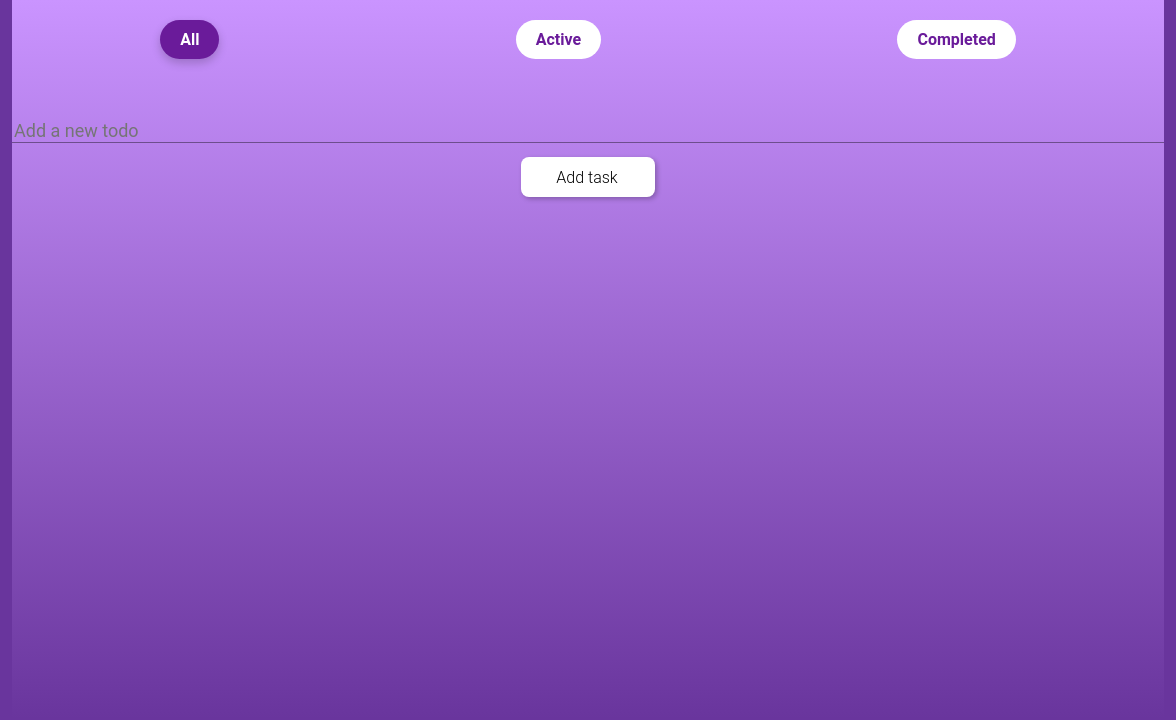
Todos › filters todos correctly
The width and height of the screenshot is (1176, 720).
Type "Task 1" into the field with placeholder "Add a new todo". click: (588, 131)
box: [12,119,1164,143]
Click the button "Add task". click: click(588, 177)
box: [521,157,655,197]
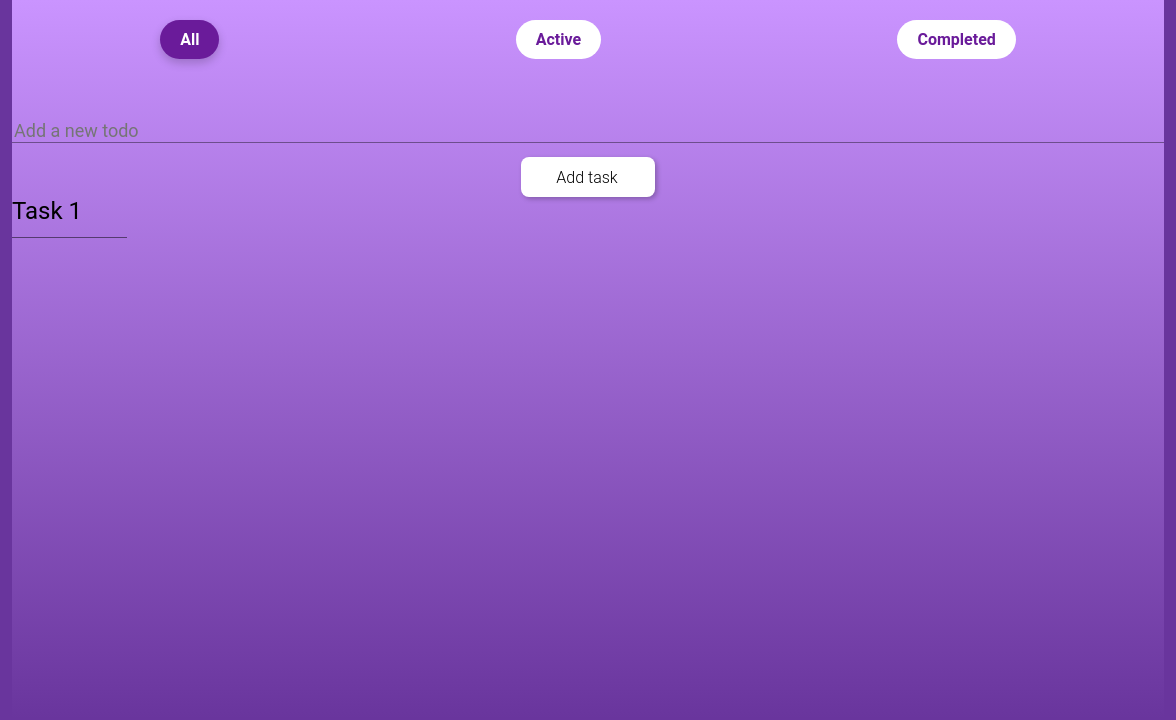
Type "Task 2" into the field with placeholder "Add a new todo". click: (588, 131)
box: [12,119,1164,143]
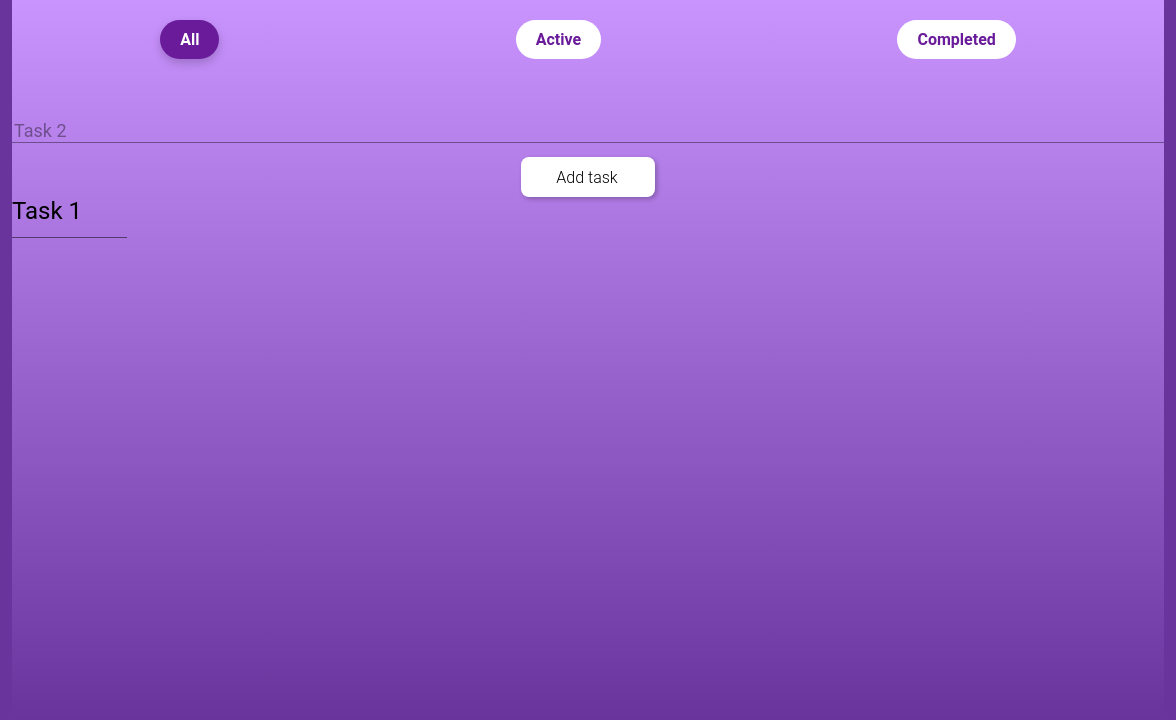
Click the button "Add task". click: click(588, 177)
box: [521,157,655,197]
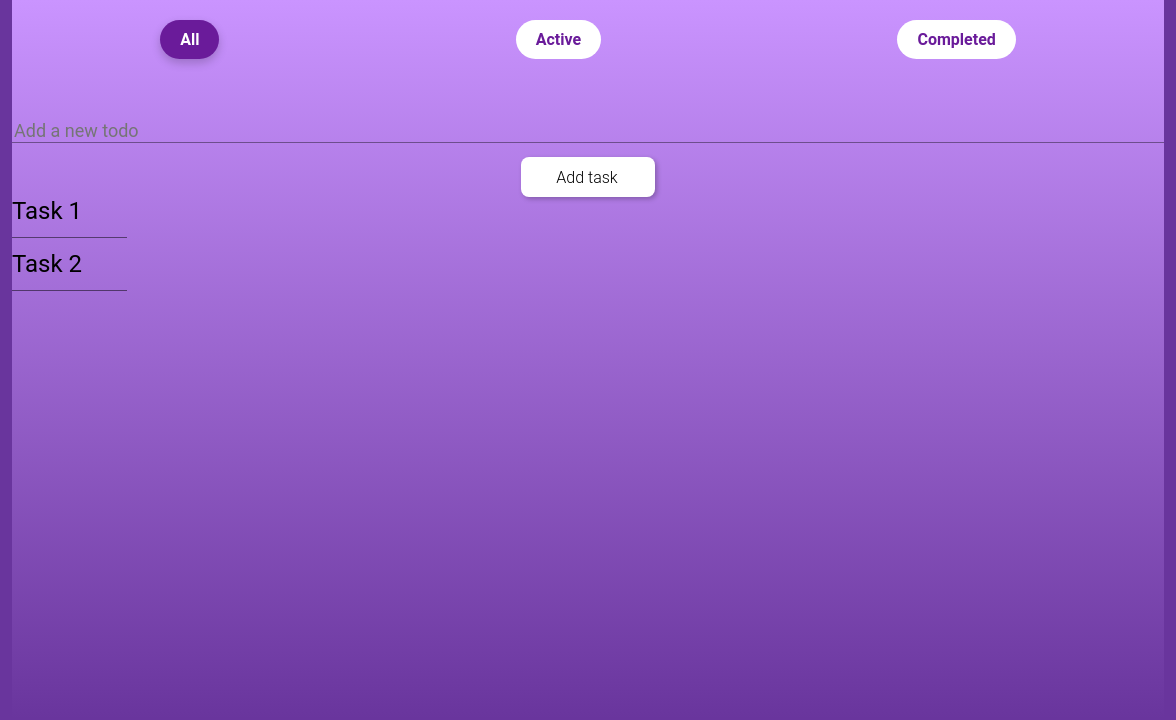
Click the text "Task 1". click: click(47, 211)
box: [12,197,82,225]
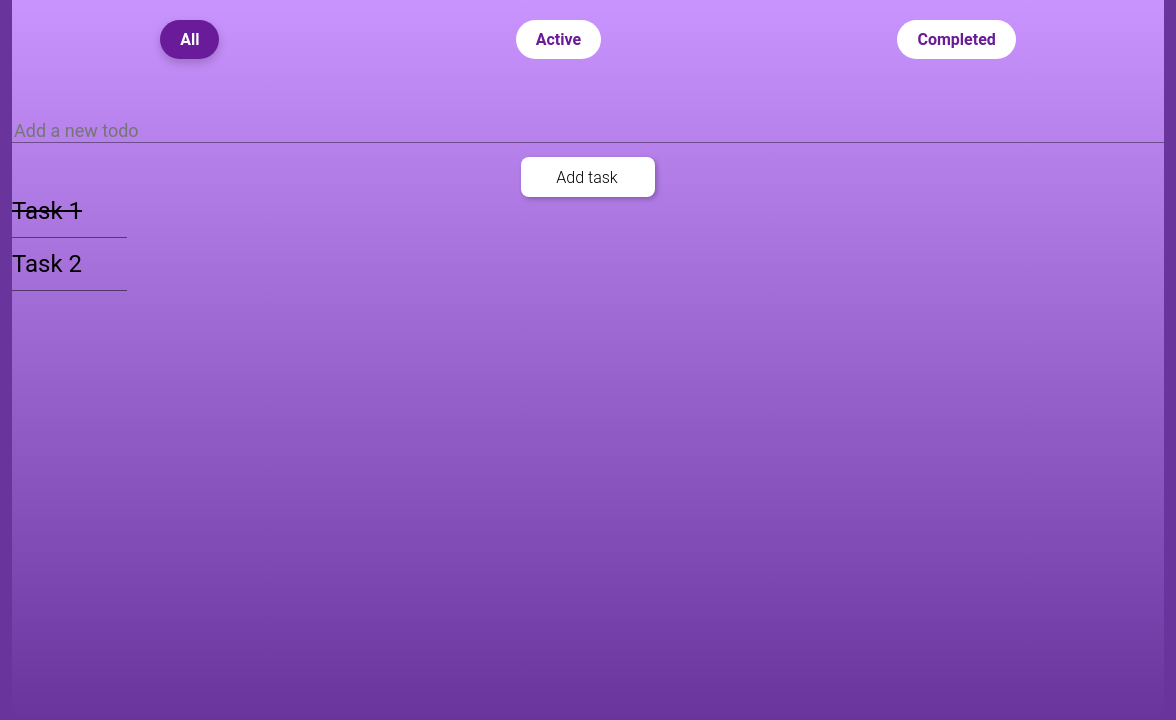
Click the button "Active". click: click(558, 40)
box: [516,20,601,59]
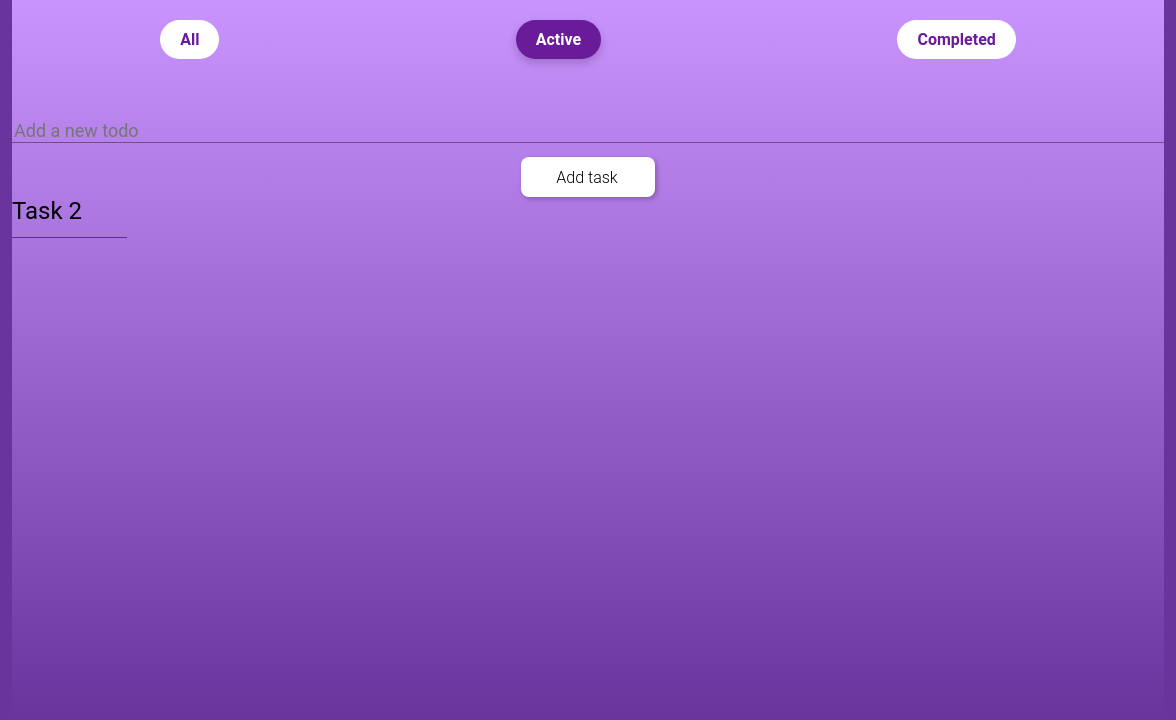
Check: the text "Task 2" is shown, box [12,197,82,225]
Check: the text "Task 1" is gone
Click the button "Completed". click: click(957, 40)
box: [898,20,1016,59]
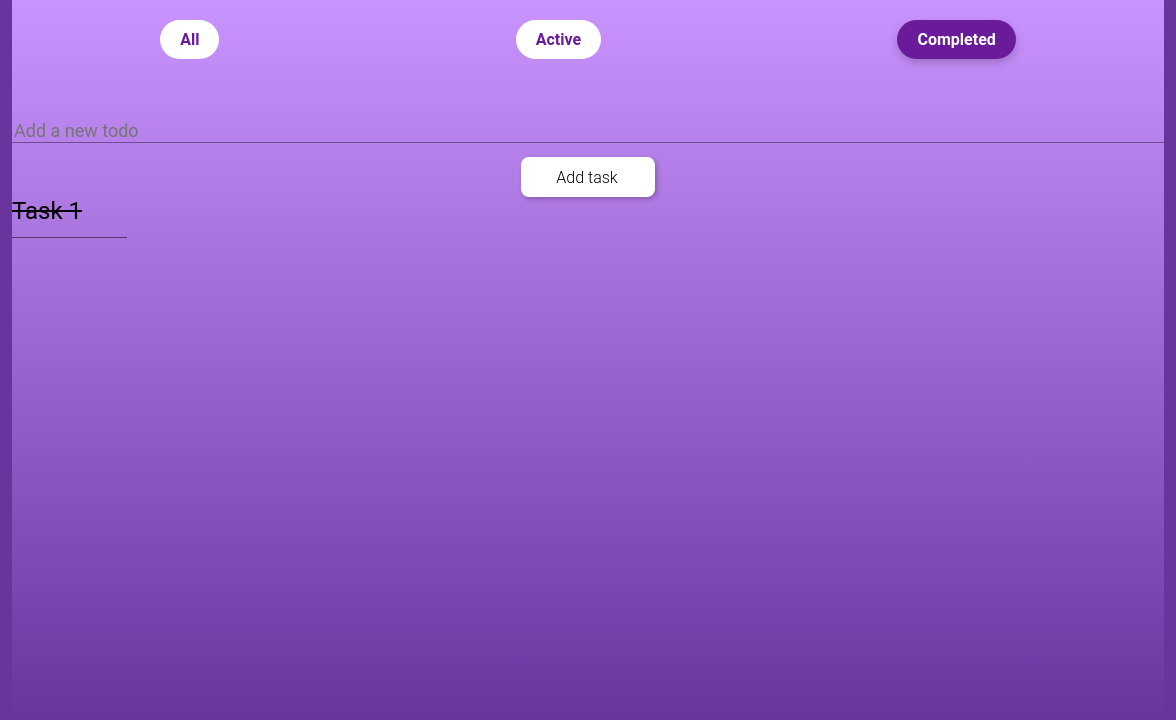
Check: the text "Task 1" is shown, box [12,197,82,225]
Check: the text "Task 2" is gone
